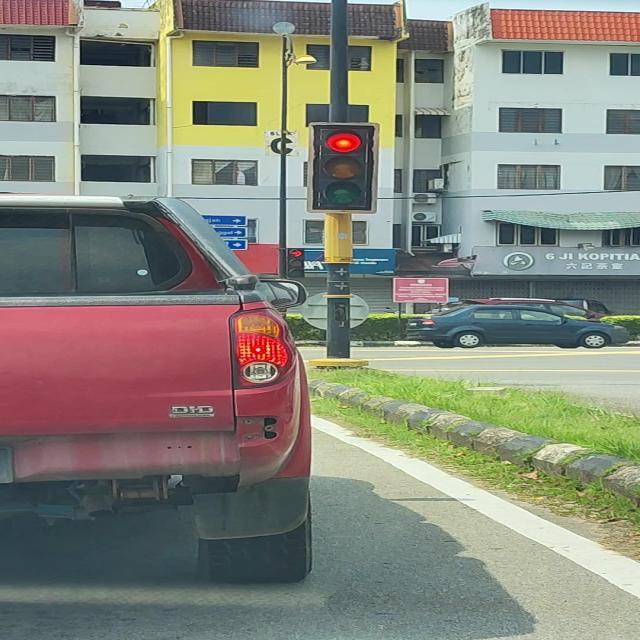car: (0, 193, 314, 584), (407, 302, 630, 350), (554, 298, 612, 320)
traffic light: (308, 122, 379, 214), (287, 249, 304, 278)
